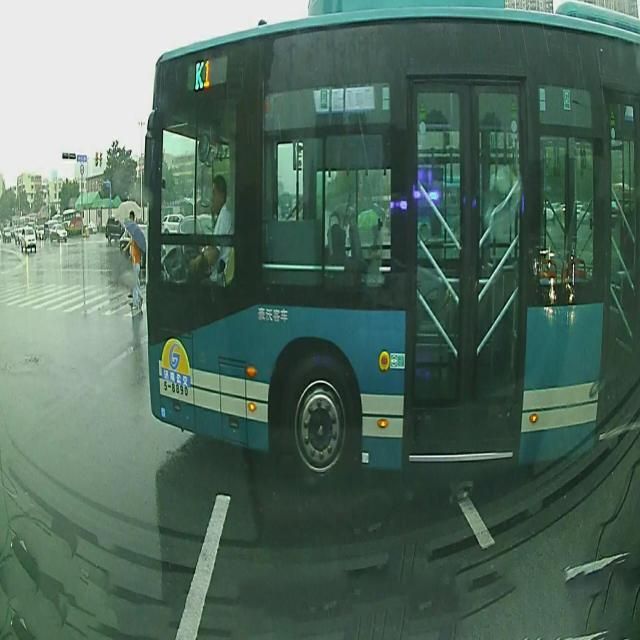car: (105, 216, 128, 244), (18, 224, 37, 252), (48, 220, 67, 244)
